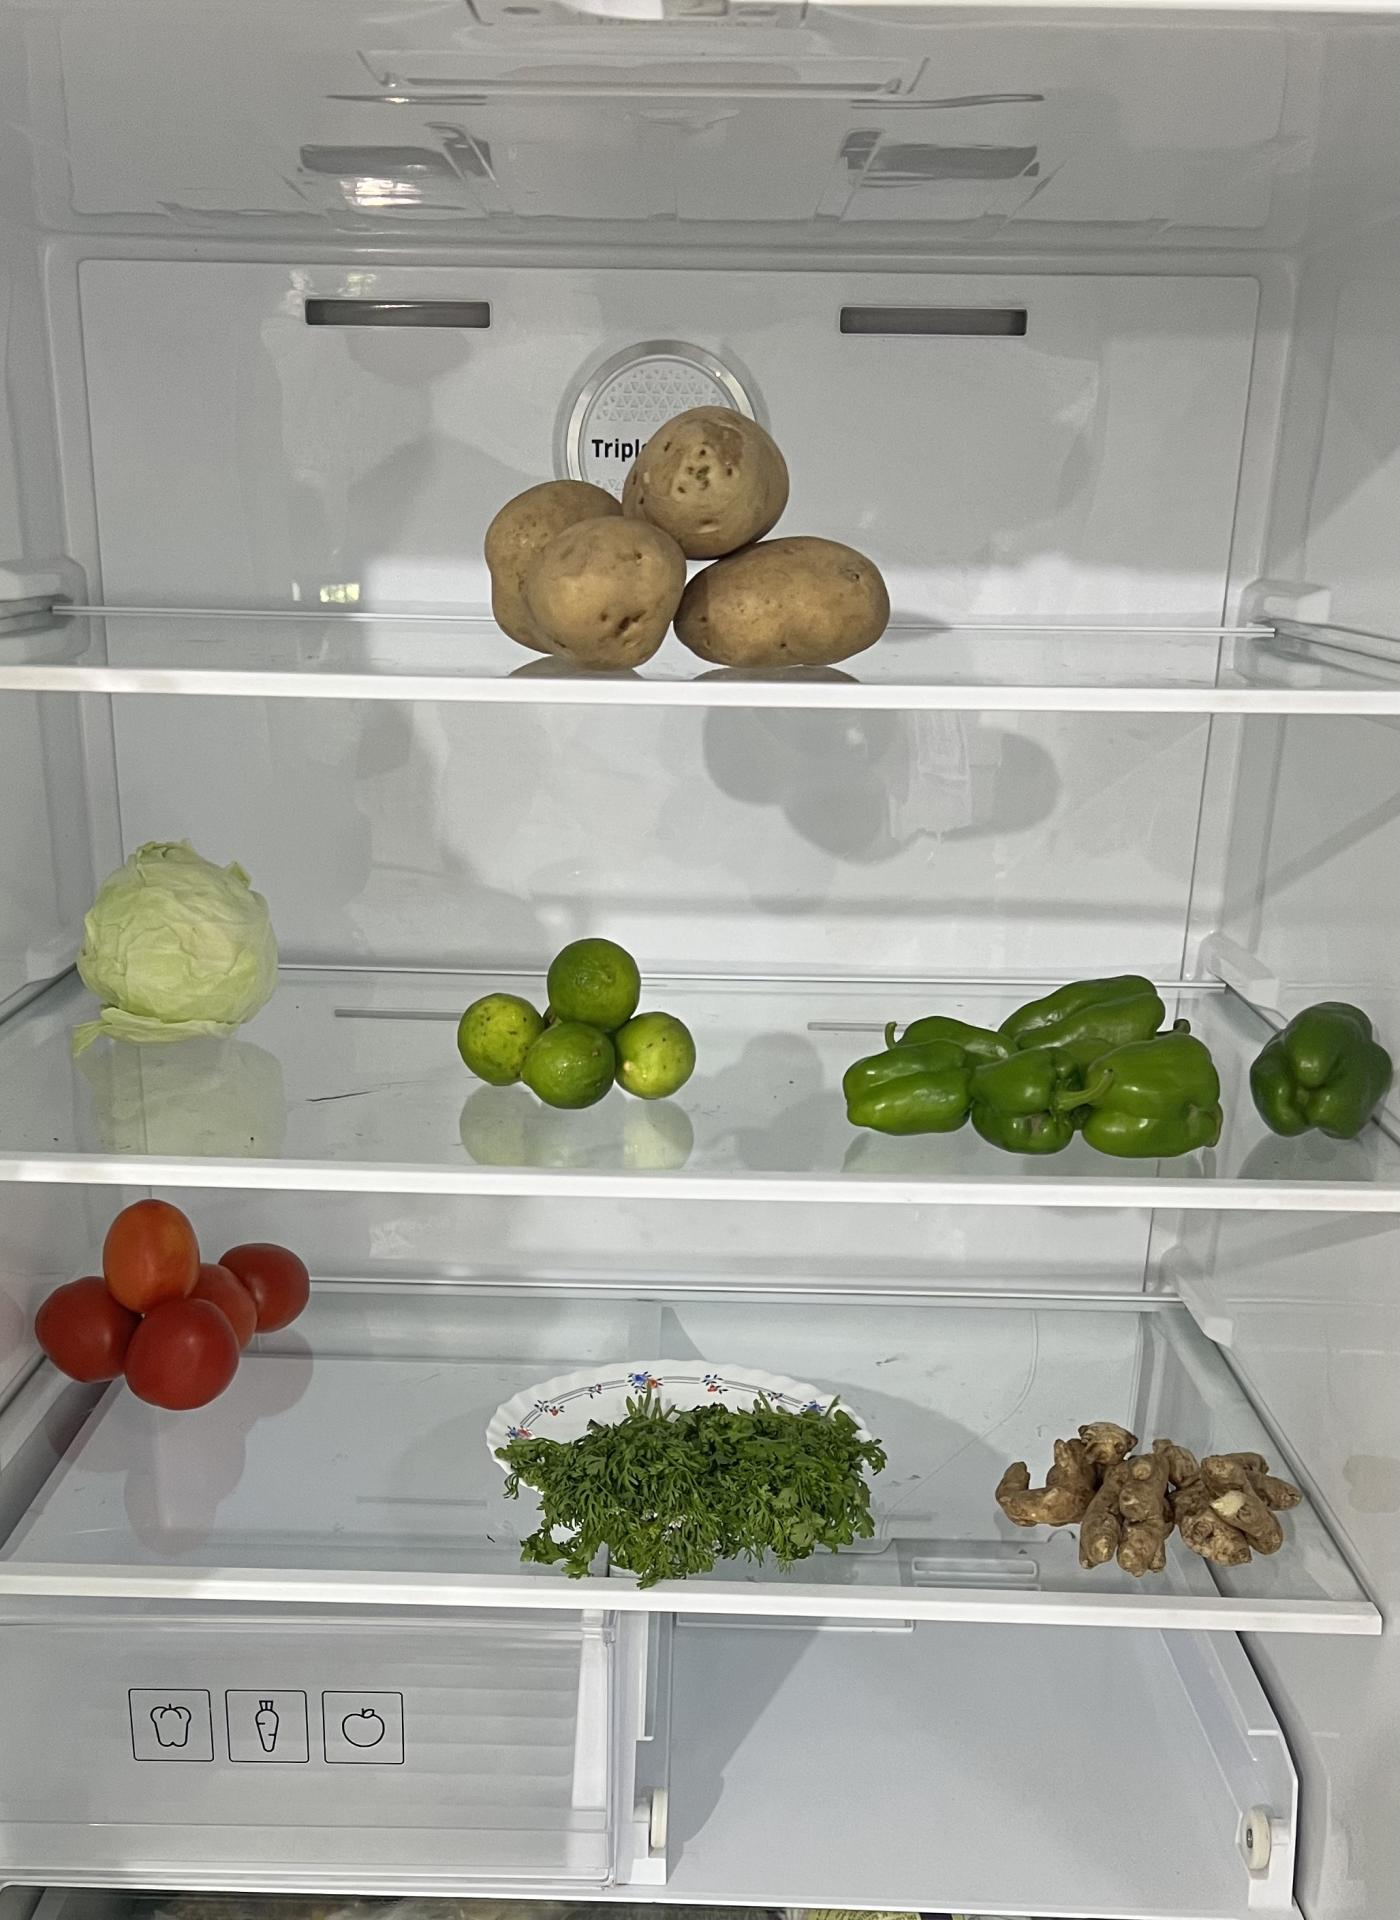cabbage: (79, 832, 271, 1038)
capsicum: (841, 973, 1388, 1160)
coriander: (480, 1388, 889, 1565)
ginger: (999, 1413, 1299, 1574)
lemon: (458, 938, 698, 1108)
potato: (477, 398, 892, 674)
tomato: (36, 1196, 309, 1400)
